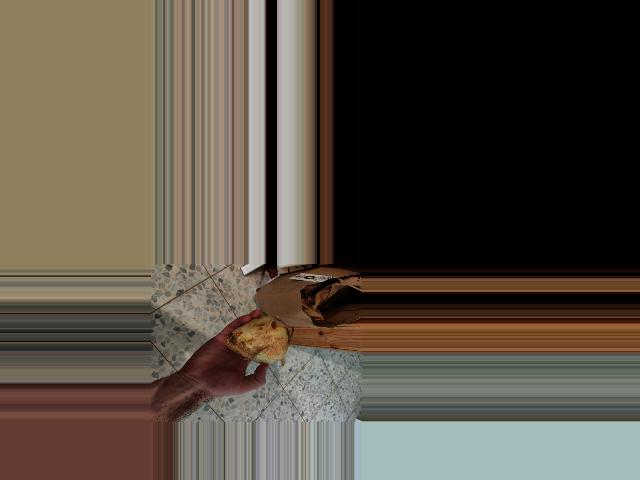onion: (221, 314, 295, 365)
